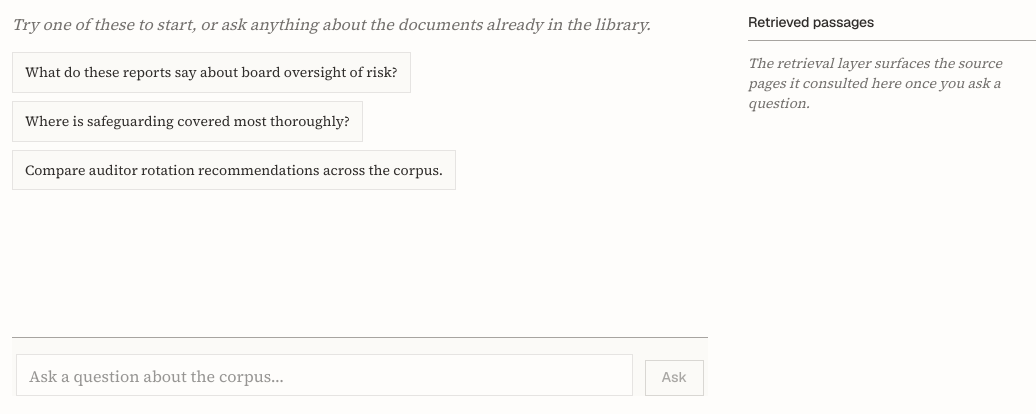
Test: ChatView › renders an editorial error when the API returns 503 (no model configured)
Type "anything" into the text box labelled "Ask a question about the corpus…" at (324, 375), box [16,354,633,396]
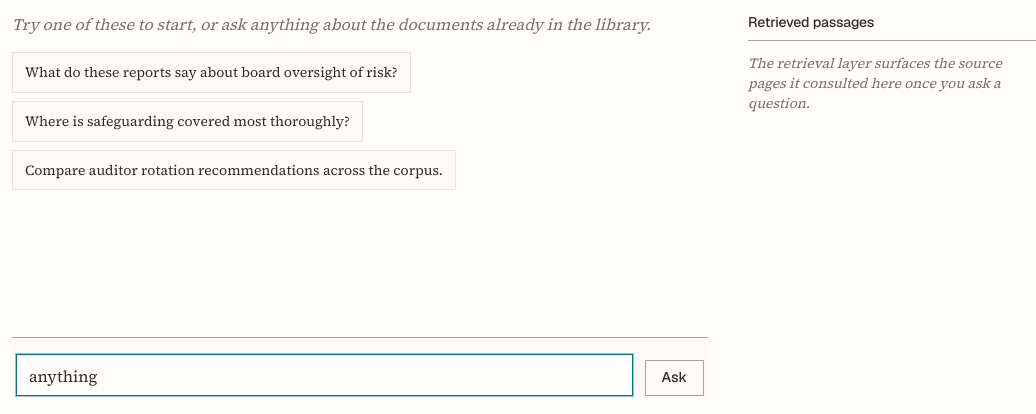
Click the button "Ask" at (674, 378), box [645,360,704,396]
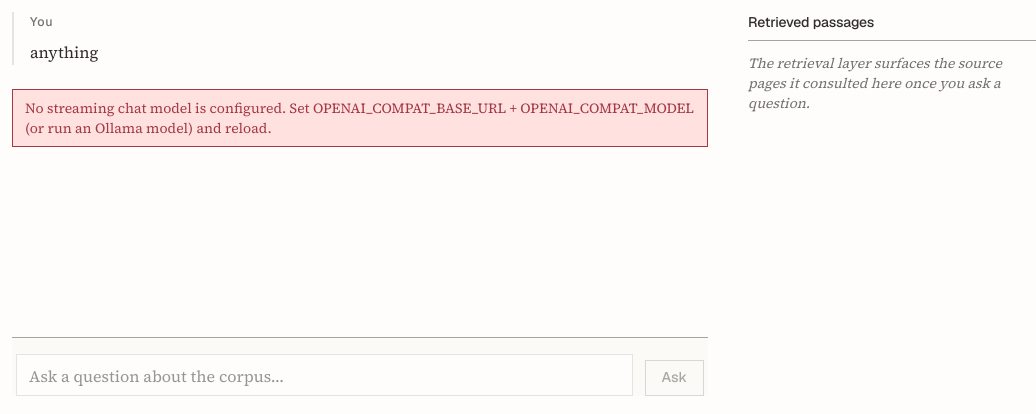
Now the message shows "OPENAI_COMPAT_BASE_URL", box [25,98,694,138]
